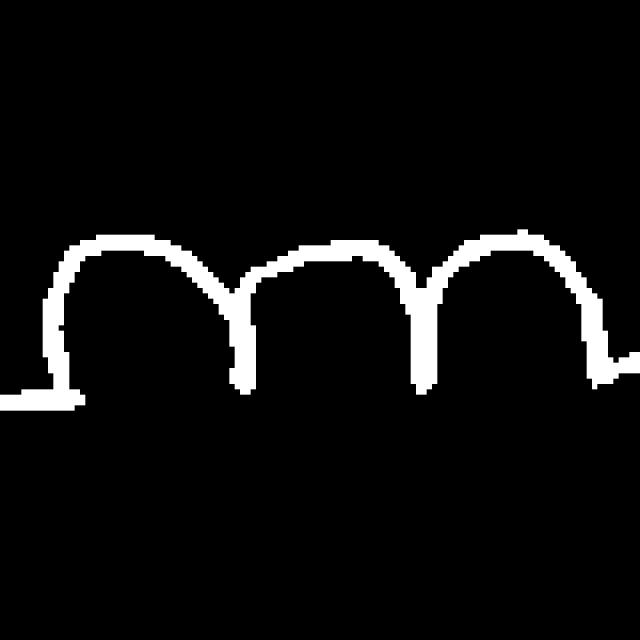inductor: (30, 214, 620, 439)
